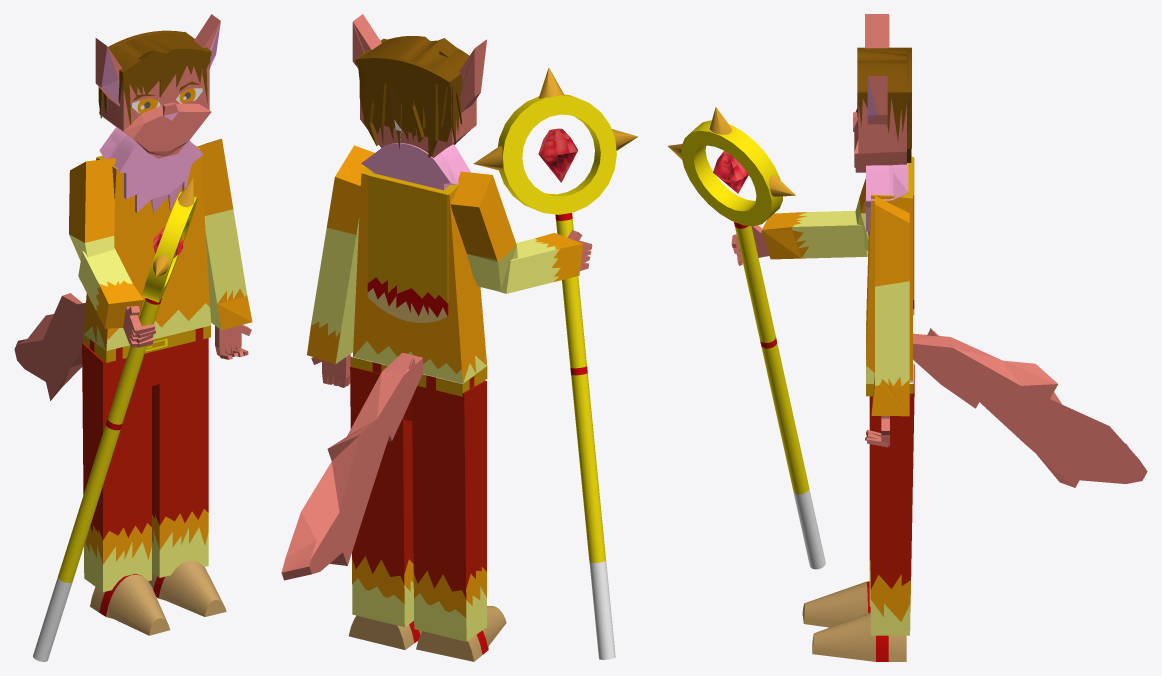
The model's file is joshua.gltf.
3 renders of one model, left to right at view 1: azimuth 30°, elevation 25°; view 2: azimuth 150°, elevation 25°; view 3: azimuth 270°, elevation 25°, orthographic. The views are drawn at different scales.
Parts seen in each view (by area): view 1: joshua; view 2: joshua; view 3: joshua.
Part boxes in pixels (bbox=[...]): joshua: bbox=[14, 14, 252, 661]; joshua: bbox=[281, 14, 637, 661]; joshua: bbox=[668, 14, 1147, 661].
Bounding box in the file's own units: 2.82 × 6.24 × 4.55.
19 materials, 1 textured.
